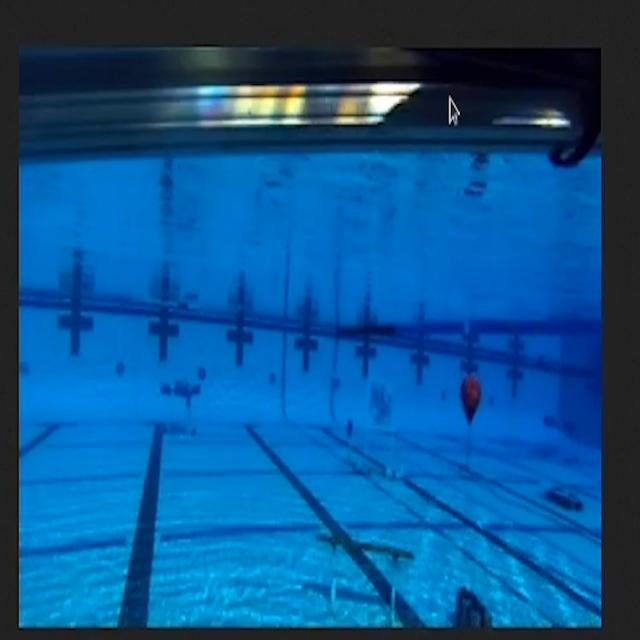Buoy: (459, 367, 486, 419)
